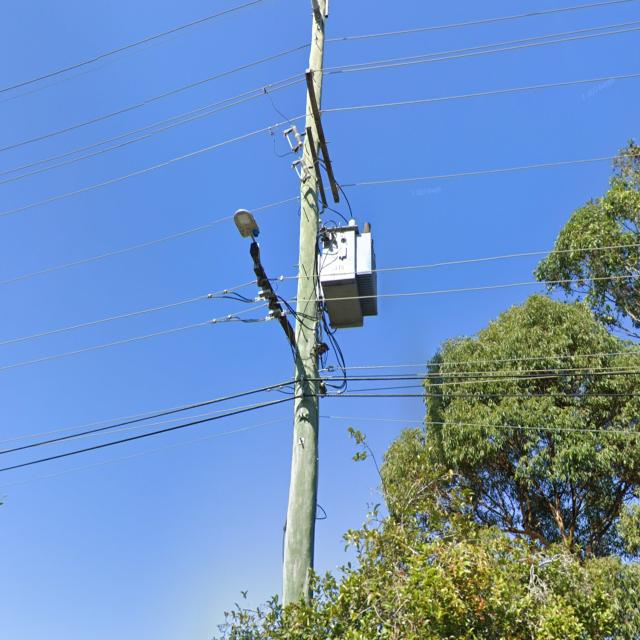HV-transmission: (282, 0, 340, 215)
LV link: (212, 306, 290, 326), (208, 286, 274, 304)
crossarm: (305, 68, 339, 204), (254, 265, 296, 349), (306, 126, 328, 209)
streetlight: (232, 208, 260, 265)
timber-pole: (279, 0, 327, 612)
transformer: (318, 220, 380, 326)
